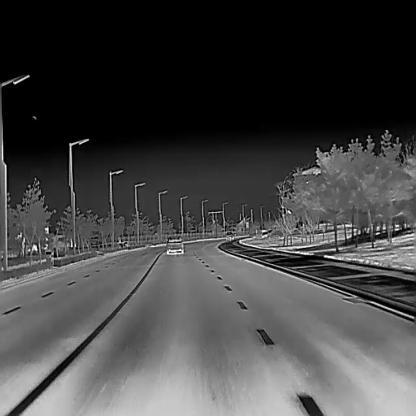car: (166, 235, 183, 253), (226, 232, 234, 240)
